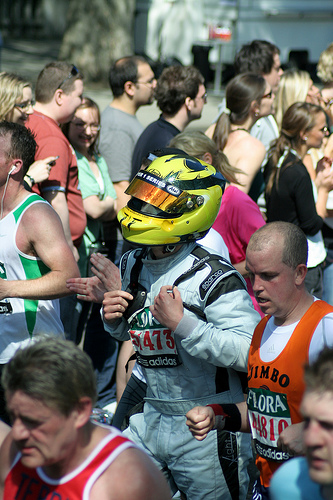helmet: (126, 164, 231, 245)
